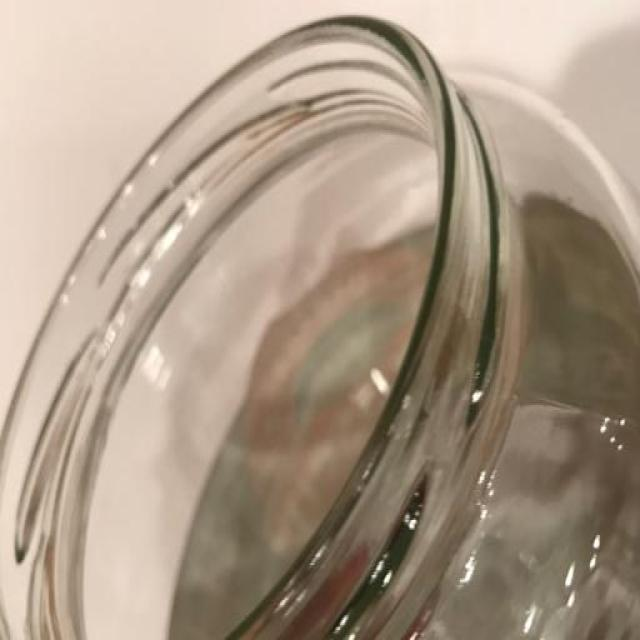Glass: (0, 16, 640, 640)
